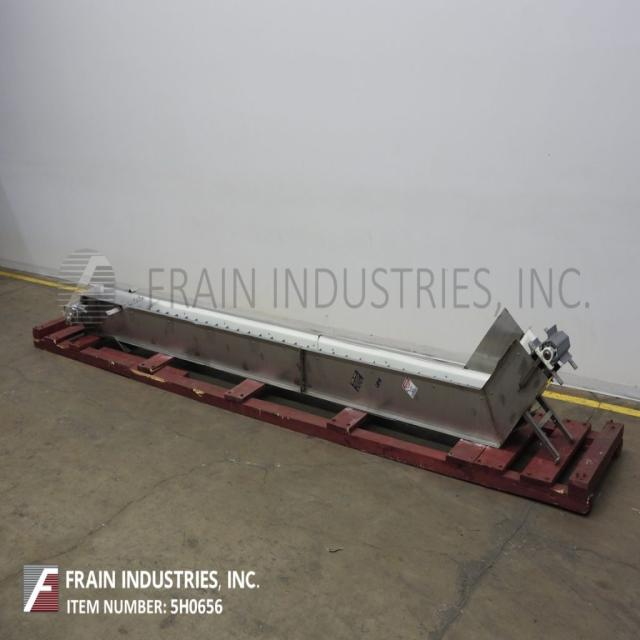conveyor: (41, 242, 589, 470)
